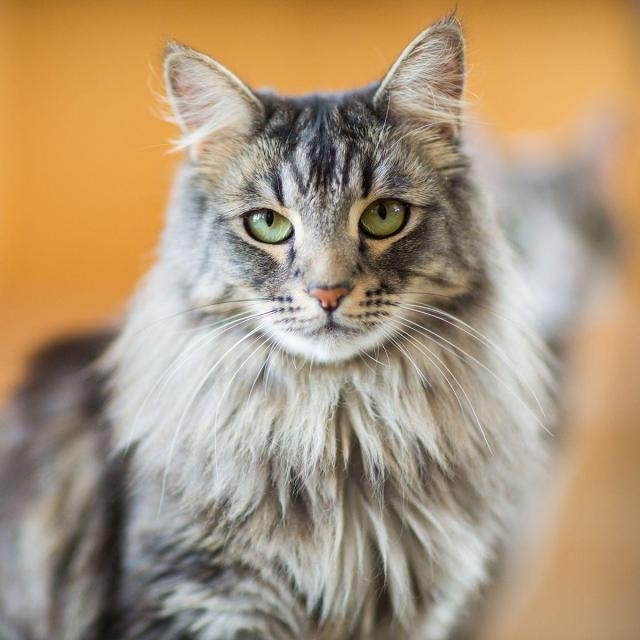Cat: (152, 23, 505, 375)
